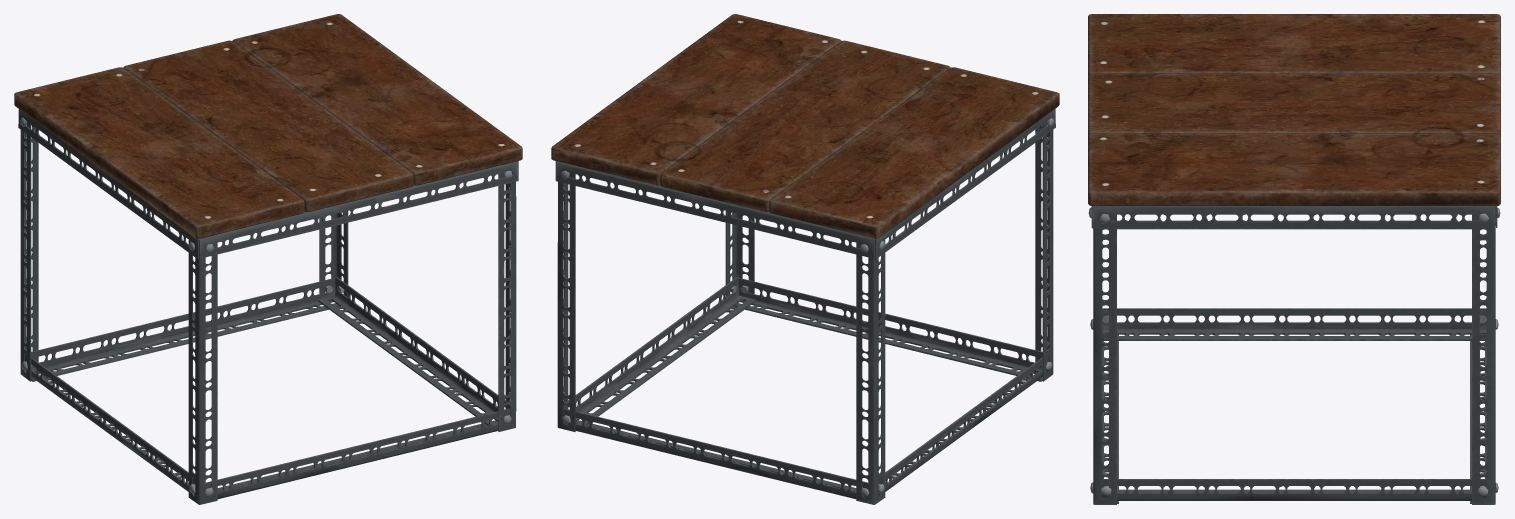
The model's file is industrial_coffee_table.glb.
3 renders of one model, left to right at view 1: azimuth 30°, elevation 25°; view 2: azimuth 150°, elevation 25°; view 3: azimuth 270°, elevation 25°, orthographic. The views are drawn at different scales.
Visible parts, largest first — view 1: industrial_coffee_table; view 2: industrial_coffee_table; view 3: industrial_coffee_table.
Part boxes in pixels (x1,y1,x2,y2): industrial_coffee_table: (14,14,522,504); industrial_coffee_table: (551,14,1059,504); industrial_coffee_table: (1088,14,1500,504).
Size of the model in its own units: 0.7783 by 0.6384 by 0.7579.
Materials: 1 (1 with a texture image).
